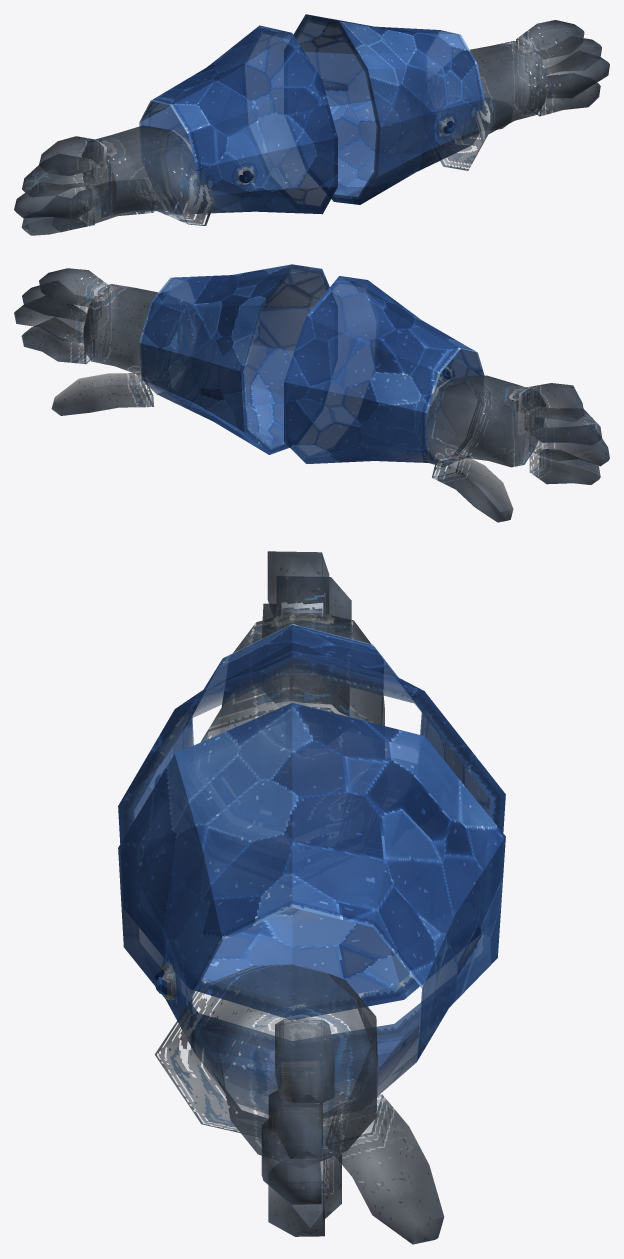
The model's file is gantelets_saphir.glb.
3 renders of one model, top to bottom at view 1: azimuth 30°, elevation 25°; view 2: azimuth 150°, elevation 25°; view 3: azimuth 270°, elevation 25°, orthographic. The views are drawn at different scales.
Parts seen in each view (by area): view 1: gantelets_saphir.001; view 2: gantelets_saphir.001; view 3: gantelets_saphir.001.
Boxes of the visible parts, x1,y1,x2,y2 form: gantelets_saphir.001: (14, 14, 609, 235); gantelets_saphir.001: (14, 264, 609, 522); gantelets_saphir.001: (118, 551, 505, 1244).
Size of the model in its own units: 0.816 by 0.2346 by 0.2299.
Materials: 4 (4 with a texture image).
